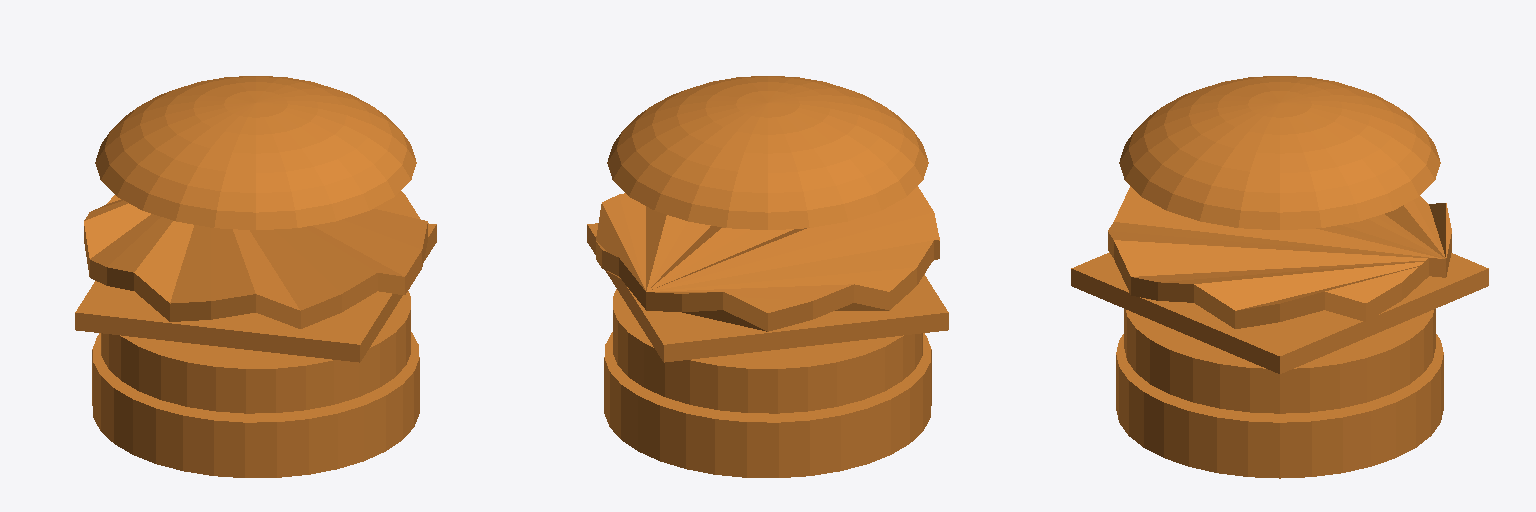
File: gem_type_1.obj
3 renders of one model, left to right at view 1: azimuth 30°, elevation 25°; view 2: azimuth 150°, elevation 25°; view 3: azimuth 270°, elevation 25°, orthographic.
Parts seen in each view (by area): view 1: gem_type_1; view 2: gem_type_1; view 3: gem_type_1.
Part boxes in pixels (x1,y1,x2,y2): gem_type_1: (75,76,436,477); gem_type_1: (587,76,948,477); gem_type_1: (1071,76,1488,478).
Bounding box in the file's own units: 1.02 × 0.825 × 1.02.